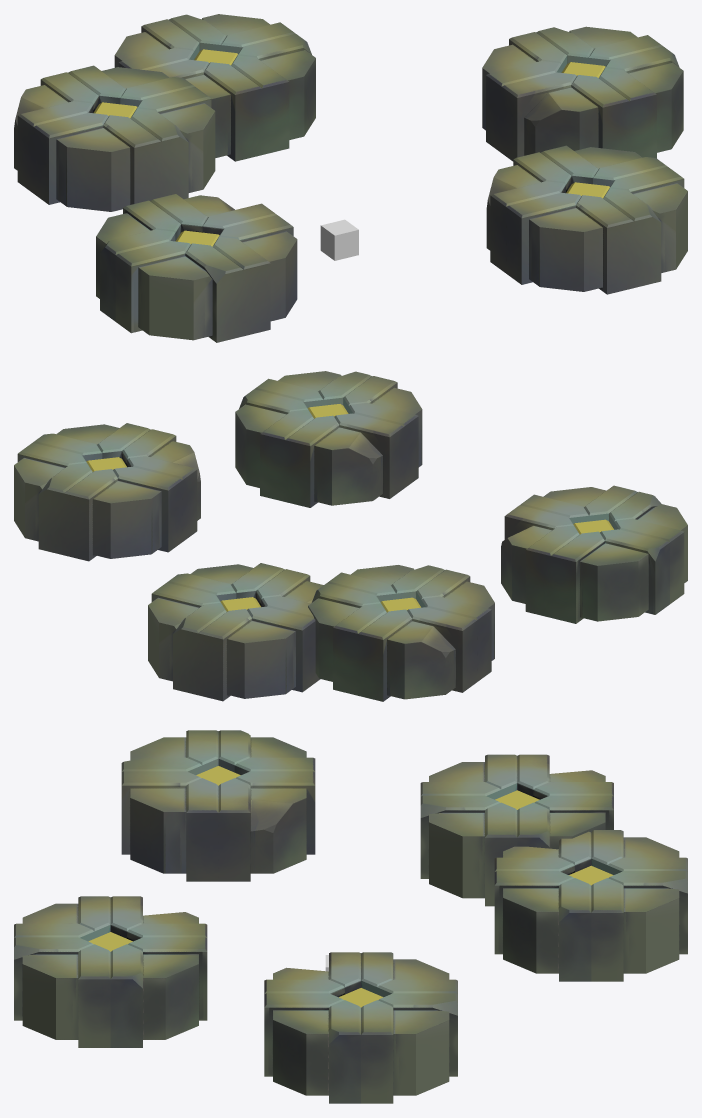
The model's file is award-floor008.fbx.
The picture shows the model from 3 angles, top to bottom: view 1: azimuth 30°, elevation 25°; view 2: azimuth 150°, elevation 25°; view 3: azimuth 270°, elevation 25°; orthographic projection. The views are drawn at different scales.
Parts seen in each view (by area): view 1: Plane.046, Plane.043, Plane.041, Plane.040, Plane.045, award-floor008; view 2: Plane.046, Plane.040, Plane.043, Plane.041, Plane.045; view 3: Plane.043, Plane.040, Plane.046, Plane.045, Plane.041.
Boxes of the visible parts, bbox=[...] form: Plane.046: bbox=[486, 145, 687, 294]; Plane.043: bbox=[96, 194, 297, 342]; Plane.041: bbox=[14, 65, 215, 211]; Plane.040: bbox=[482, 26, 683, 161]; Plane.045: bbox=[114, 14, 315, 161]; award-floor008: bbox=[320, 219, 358, 260]; Plane.046: bbox=[235, 371, 422, 507]; Plane.040: bbox=[14, 423, 200, 561]; Plane.043: bbox=[501, 485, 687, 623]; Plane.041: bbox=[308, 565, 494, 701]; Plane.045: bbox=[148, 563, 323, 701]; Plane.043: bbox=[121, 730, 315, 881]; Plane.040: bbox=[264, 952, 457, 1103]; Plane.046: bbox=[14, 896, 207, 1047]; Plane.045: bbox=[494, 830, 687, 981]; Plane.041: bbox=[420, 754, 613, 906].
Size of the model in its own units: 1526 by 280 by 1398.
